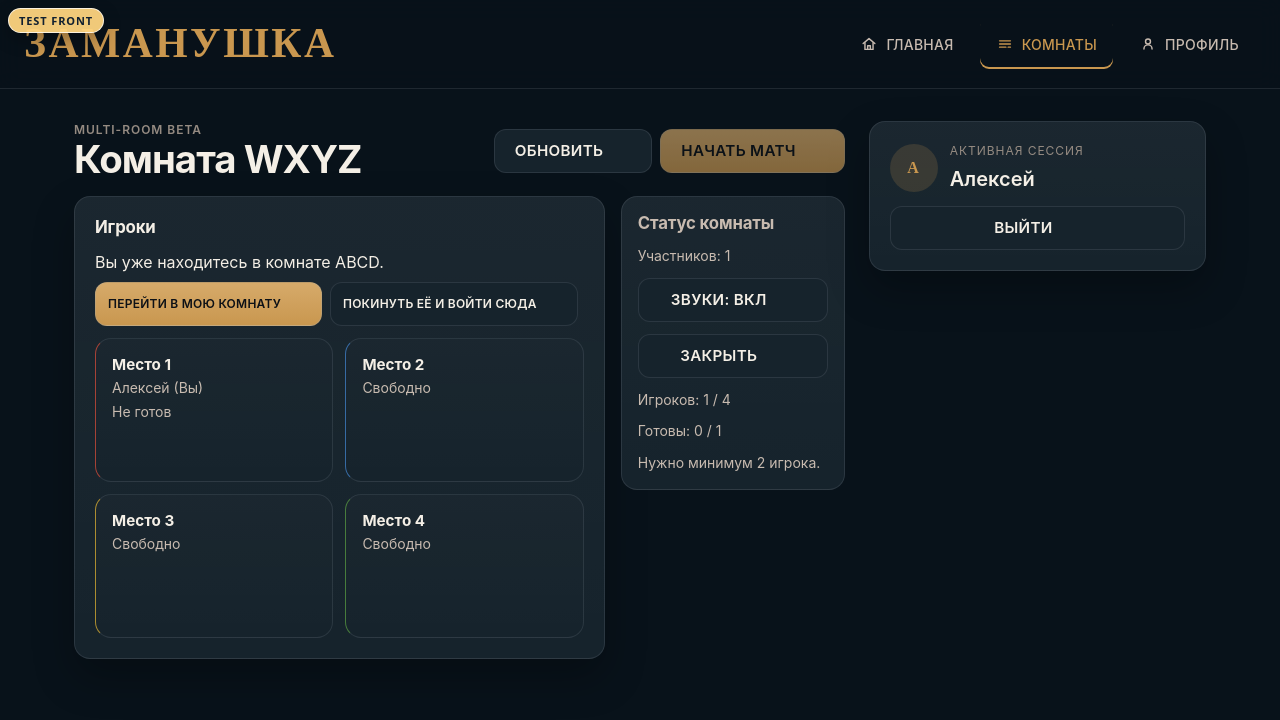
Test case: playable beta room flow › blocks a switch when the fresh source room became active
Click the button "Покинуть её и войти сюда" at (454, 304), box [330,282,578,326]
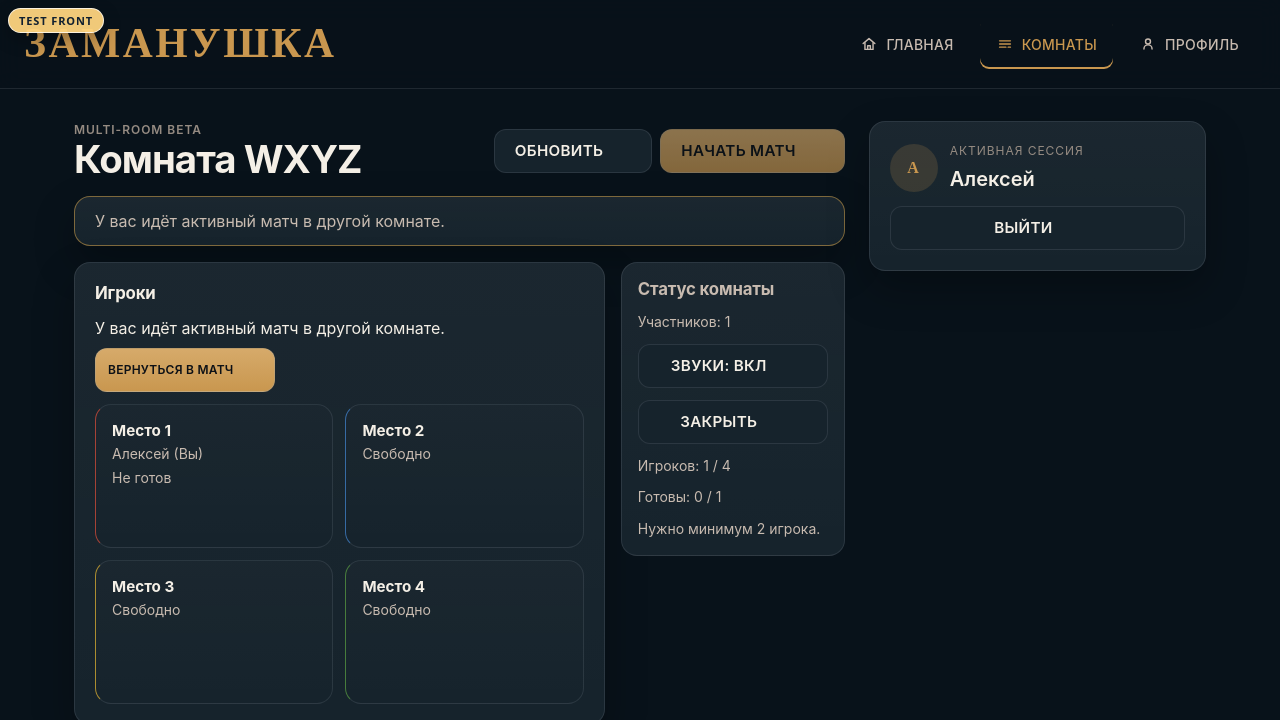
Expected: the button "Вернуться в матч" is shown, [95,348,274,392]
